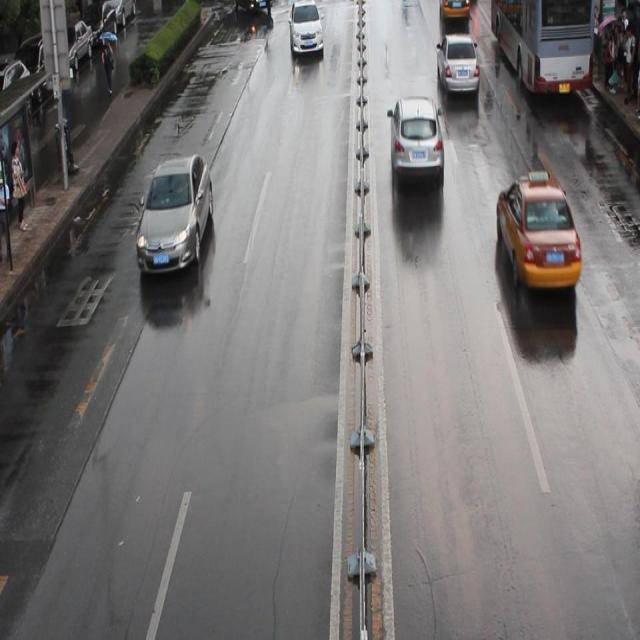car: (495, 173, 580, 292), (136, 155, 213, 274), (389, 97, 443, 180), (436, 32, 478, 94), (288, 1, 324, 54), (440, 1, 470, 23), (228, 1, 274, 12)
van: (490, 1, 593, 93)
